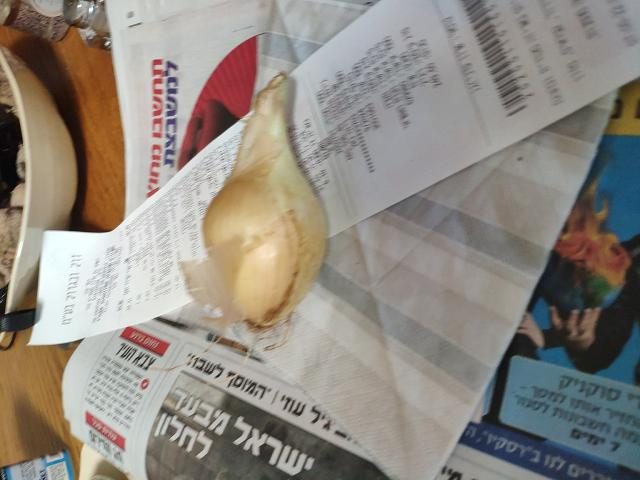onion: (201, 81, 334, 323)
